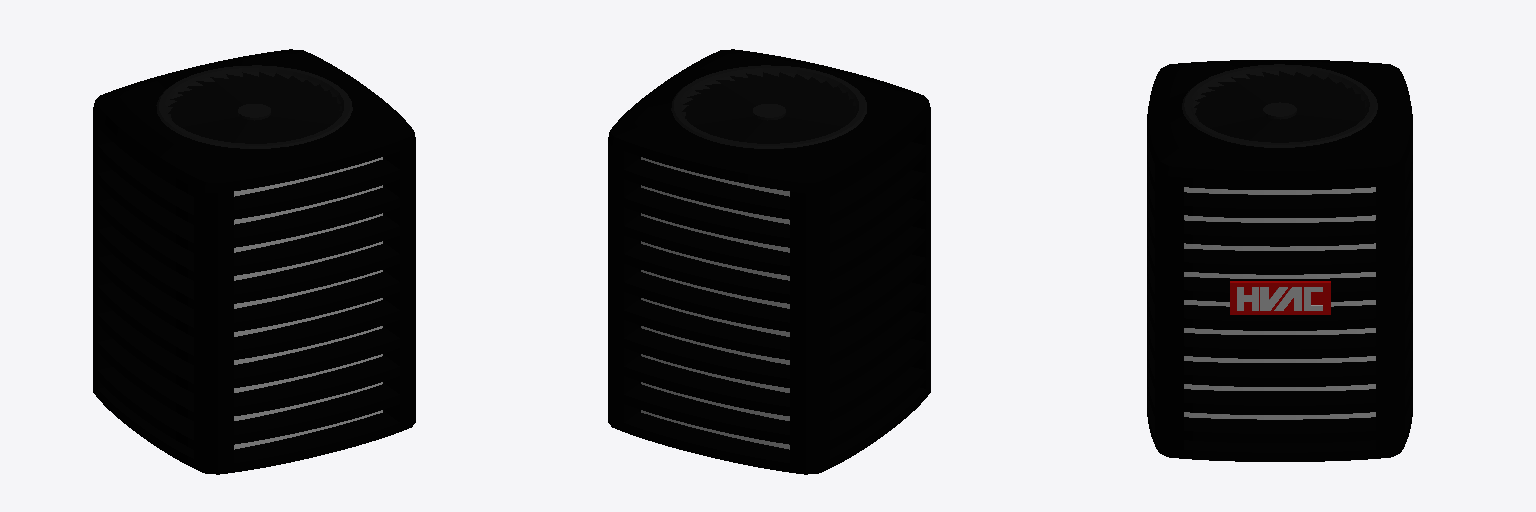
The model's file is HVAC.obj.
3 views of the same model, side by side, from view 1: azimuth 30°, elevation 25°; view 2: azimuth 150°, elevation 25°; view 3: azimuth 270°, elevation 25° (orthographic).
Parts seen in each view (by area): view 1: Cube_Cube.001; view 2: Cube_Cube.001; view 3: Cube_Cube.001.
Boxes of the visible parts, x1=… form: Cube_Cube.001: x1=93, y1=49, x2=415, y2=474; Cube_Cube.001: x1=608, y1=49, x2=930, y2=474; Cube_Cube.001: x1=1147, y1=60, x2=1412, y2=461.
Bounding box in the file's own units: 0.7599 × 0.9367 × 0.7507.